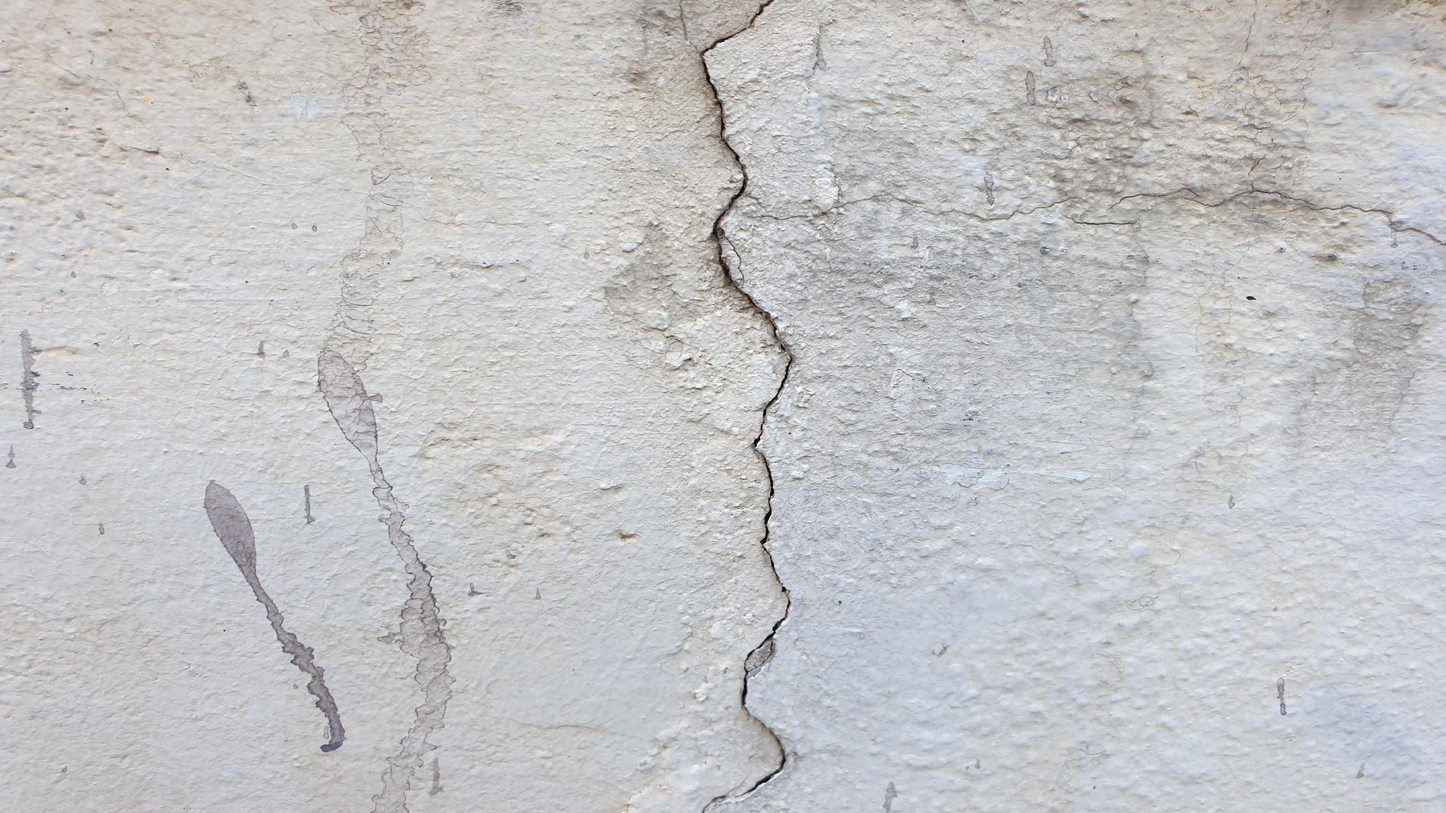crack: (697, 2, 796, 812)
